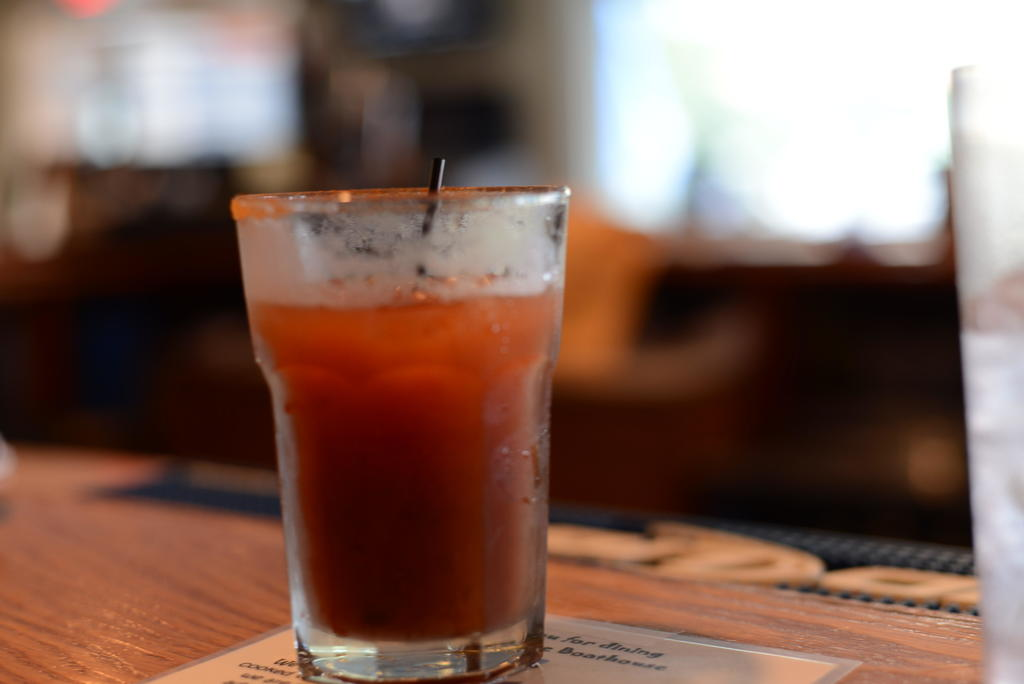Beer: (230, 158, 570, 683)
